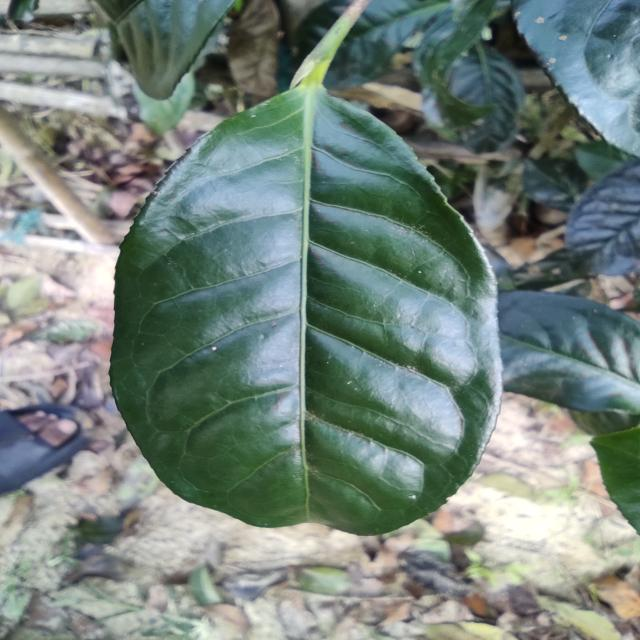Category D(7+ days, Not for Tea): (103, 81, 514, 544)
